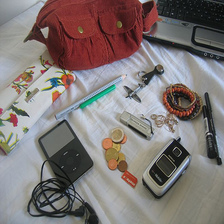laptop: (132, 1, 224, 55)
